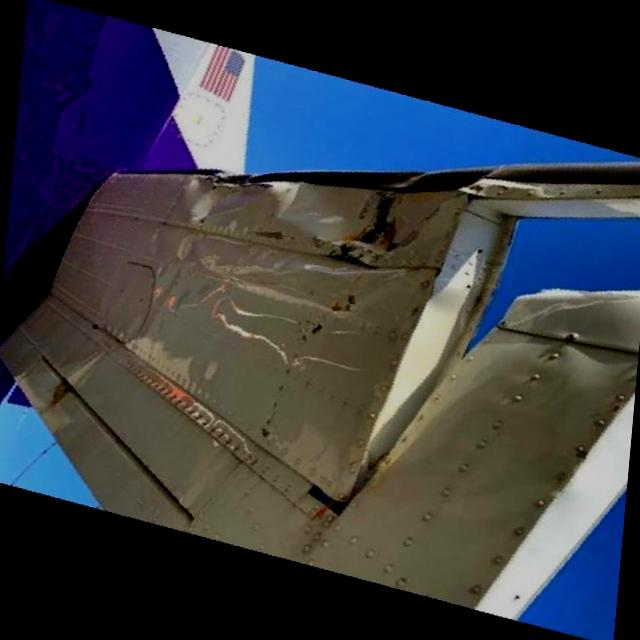dent: (162, 172, 292, 237)
